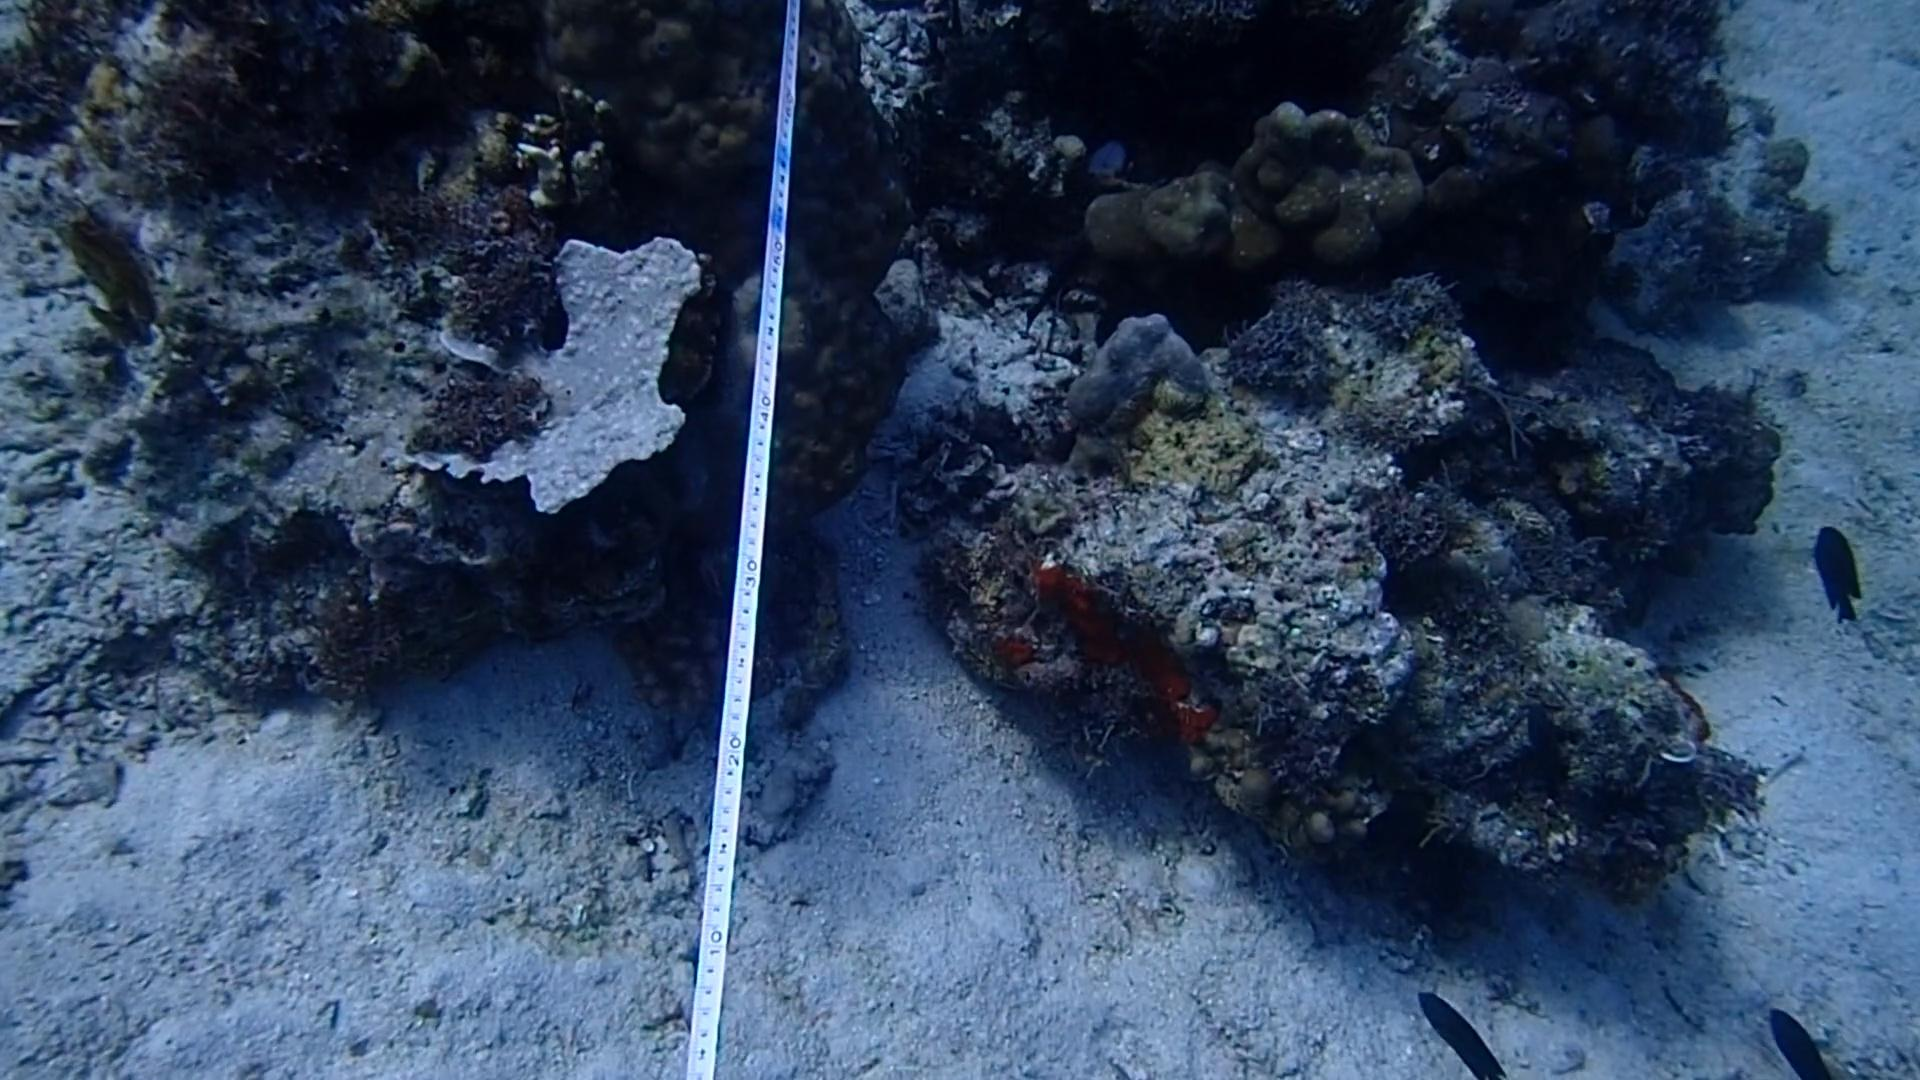Dark Fish: (1411, 980, 1507, 1080), (1801, 513, 1867, 628), (1755, 1001, 1834, 1080)
